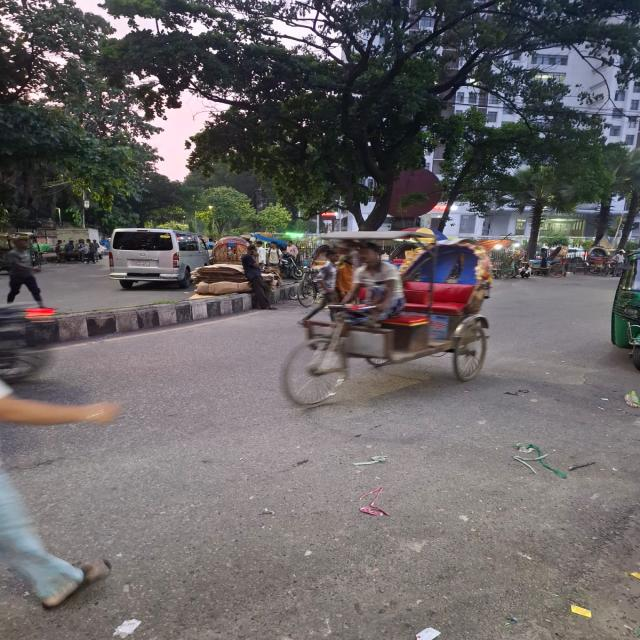person: (299, 248, 339, 326), (6, 238, 45, 308), (241, 245, 276, 310)
